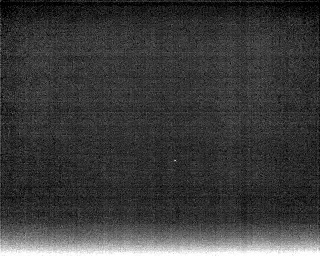BIRD: (171, 156, 179, 165)
